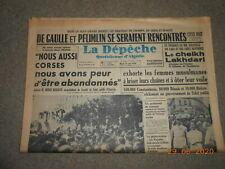paper: (22, 17, 225, 152)
